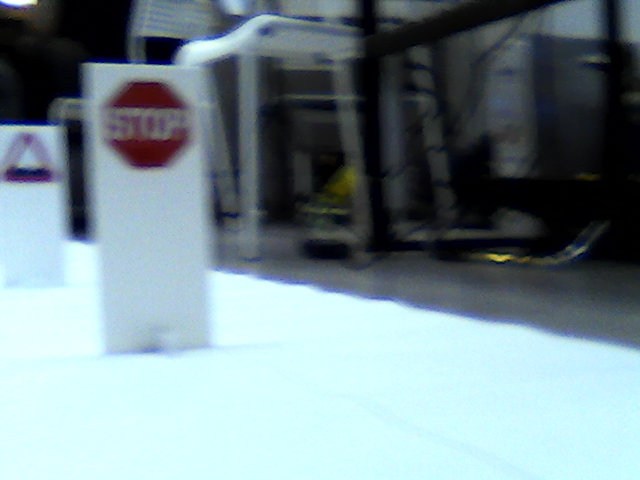Nerov: (1, 133, 58, 185)
Stop: (102, 80, 192, 170)
